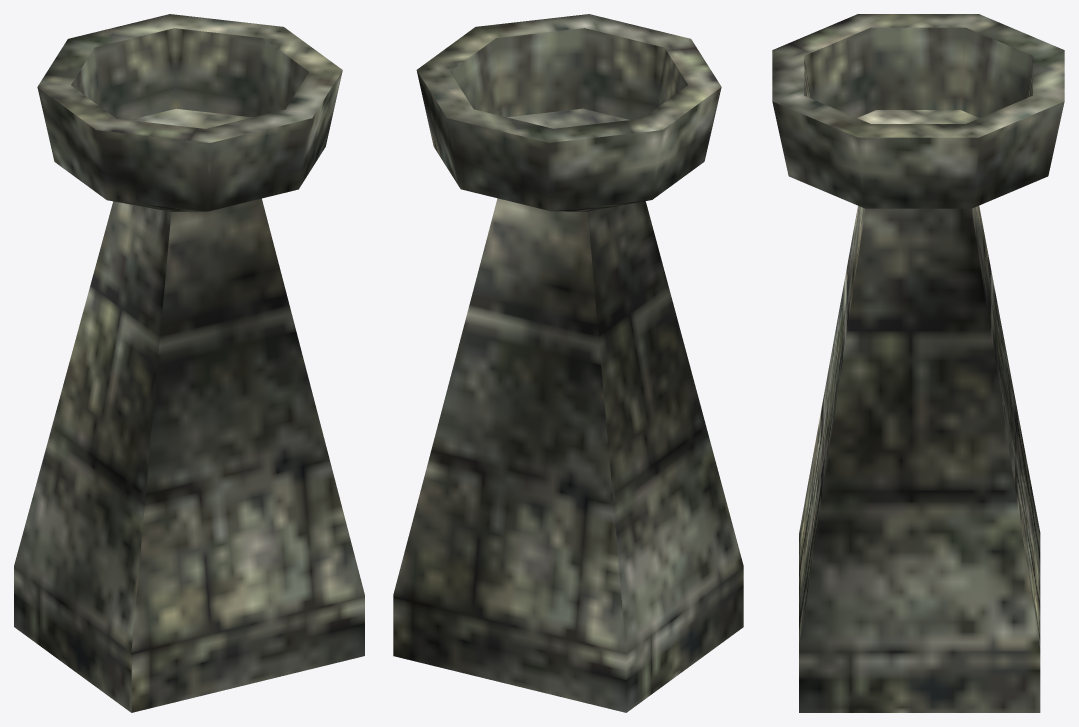
Rendered from ob-12-03gate06.glb.
The picture shows the model from 3 angles, left to right: view 1: azimuth 30°, elevation 25°; view 2: azimuth 150°, elevation 25°; view 3: azimuth 270°, elevation 25°; orthographic projection. The views are drawn at different scales.
Visible parts, largest first — view 1: ob-12-03gate02; view 2: ob-12-03gate02; view 3: ob-12-03gate02.
Part boxes in pixels (<box>): ob-12-03gate02: <box>14,14,364,712</box>; ob-12-03gate02: <box>393,14,743,712</box>; ob-12-03gate02: <box>772,14,1064,712</box>.
Size of the model in its own units: 1.02 by 2.23 by 1.02.
Materials: 1 (1 with a texture image).
